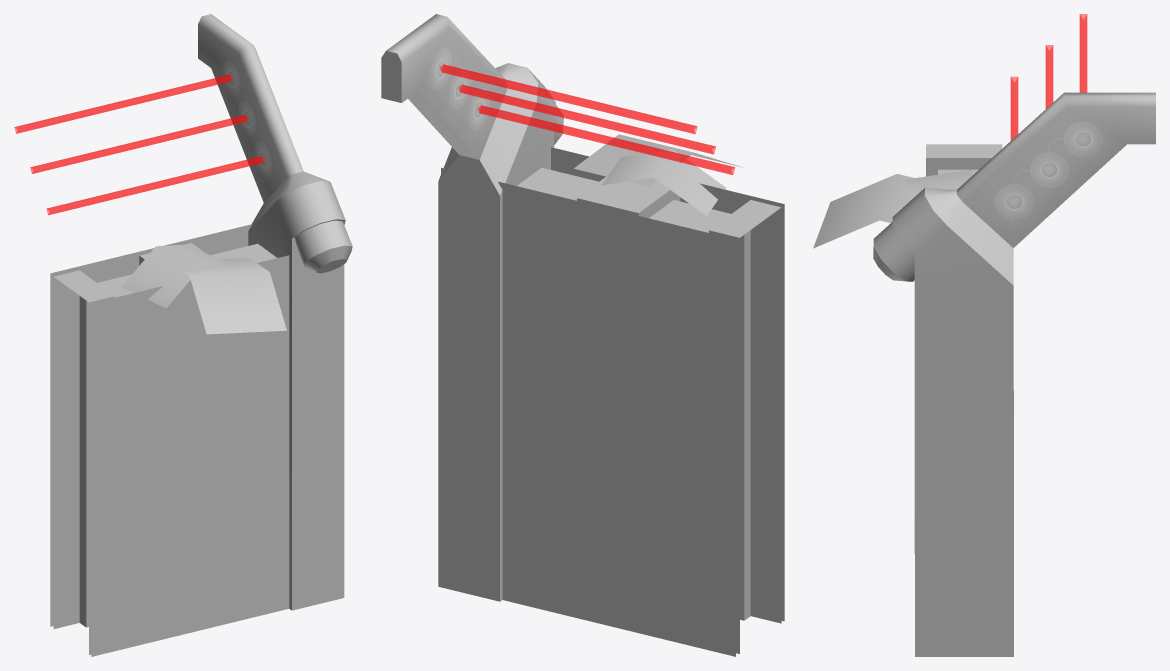
Rendered from Exterior_Fence_End.fbx.
The picture shows the model from 3 angles, left to right: view 1: azimuth 30°, elevation 25°; view 2: azimuth 150°, elevation 25°; view 3: azimuth 270°, elevation 25°; orthographic projection. The views are drawn at different scales.
Parts seen in each view (by area): view 1: Exterior_Fence_End; view 2: Exterior_Fence_End; view 3: Exterior_Fence_End.
Part boxes in pixels (<box>): Exterior_Fence_End: <box>14,14,352,656</box>; Exterior_Fence_End: <box>381,14,784,656</box>; Exterior_Fence_End: <box>813,14,1155,656</box>.
Bounding box in the file's own units: 2.23 × 4.33 × 2.46.
